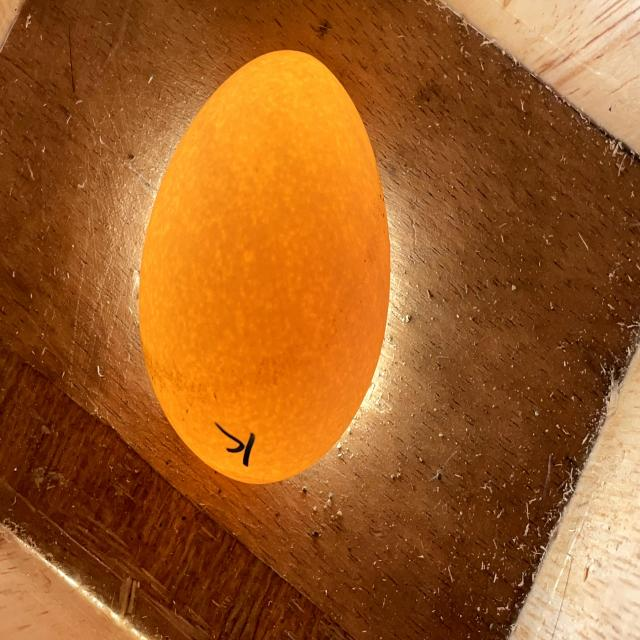infertile: (139, 50, 390, 483)
